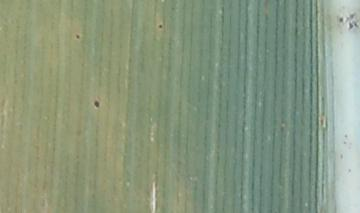tarspot: (92, 98, 101, 109), (346, 20, 353, 31), (348, 11, 356, 20), (353, 19, 360, 29), (73, 32, 81, 40), (338, 15, 344, 25), (157, 23, 164, 30)
